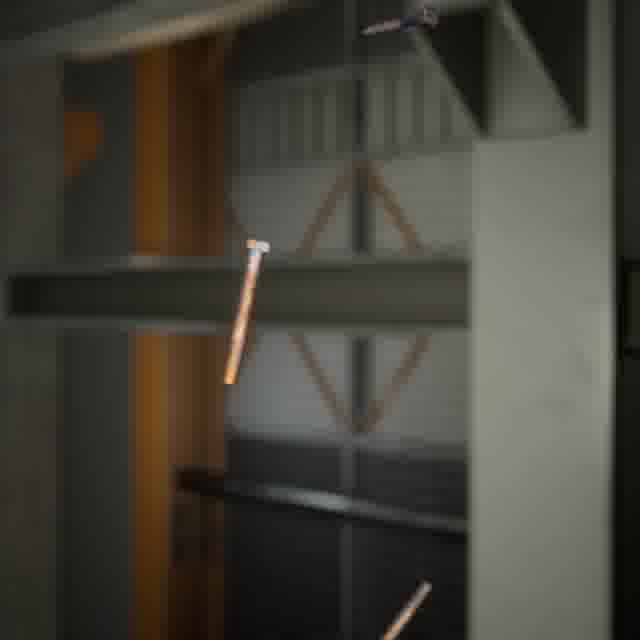bolt: (217, 234, 274, 389), (375, 576, 437, 640), (357, 0, 443, 39)
